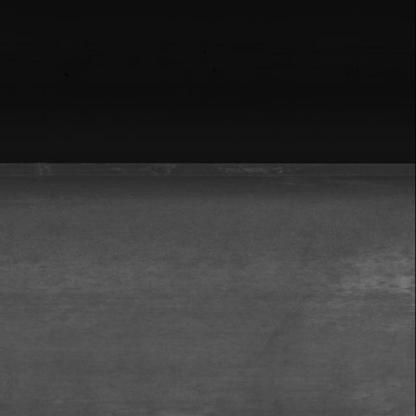silk_spot: (38, 245, 172, 311), (302, 250, 390, 312), (206, 246, 254, 306)
